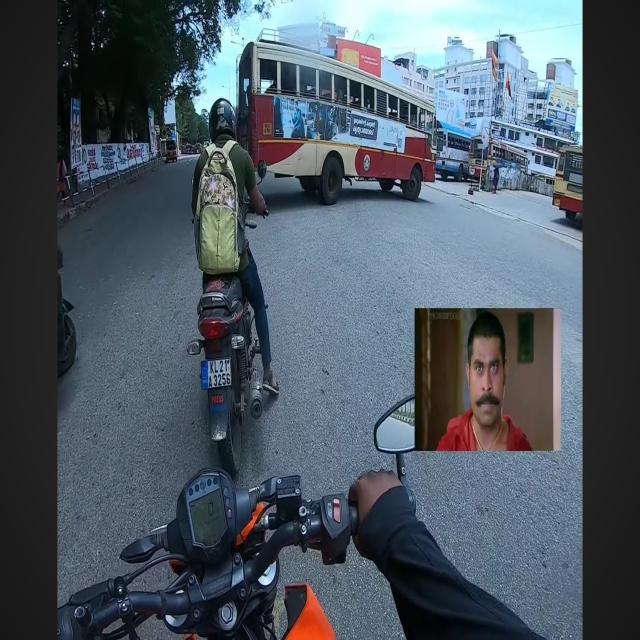Numberplate: (203, 354, 231, 386)
